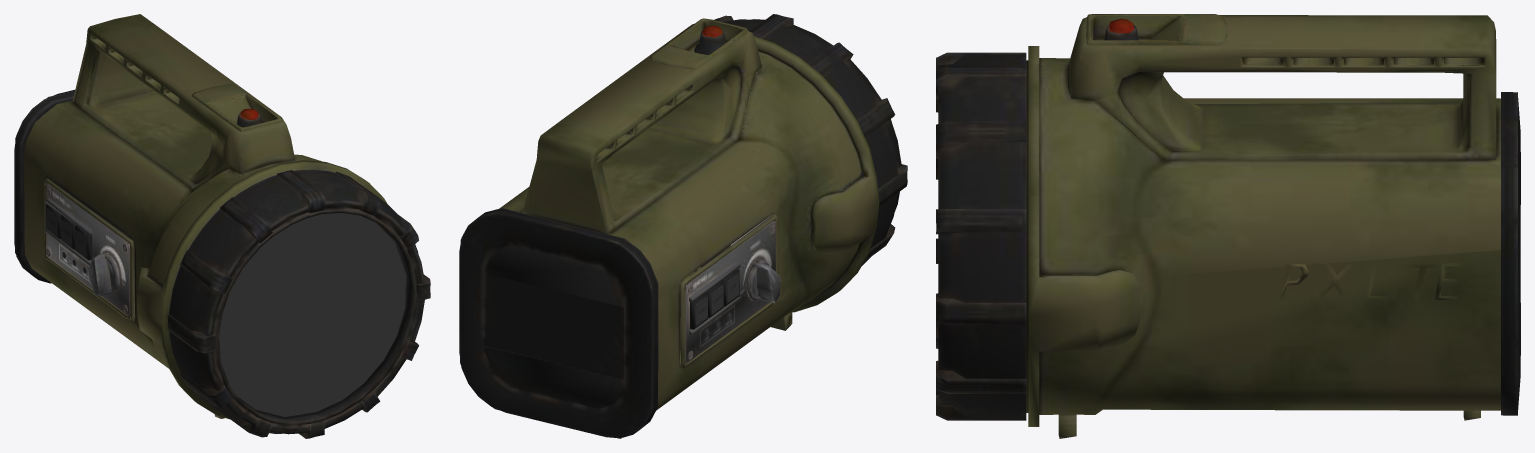
Rendered from ph_portable_searchlight.glb.
3 views of the same model, side by side, from view 1: azimuth 30°, elevation 25°; view 2: azimuth 150°, elevation 25°; view 3: azimuth 270°, elevation 25° (orthographic). The views are drawn at different scales.
Parts seen in each view (by area): view 1: portable_searchlight; view 2: portable_searchlight; view 3: portable_searchlight.
Boxes of the visible parts, box(x1,y1,x2,y2) form: portable_searchlight: box(14, 14, 430, 438); portable_searchlight: box(459, 14, 907, 438); portable_searchlight: box(936, 14, 1520, 438).
Size of the model in its own units: 0.1651 by 0.1854 by 0.2535.
Materials: 2 (2 with a texture image).
